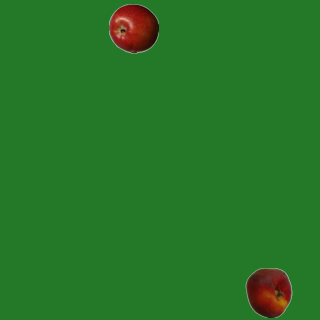Apple Braeburn: (108, 3, 158, 53)
Nectarine Flat: (243, 267, 293, 317)
